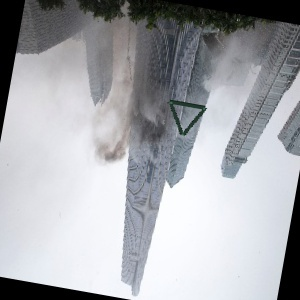triangle: (167, 99, 208, 136)
